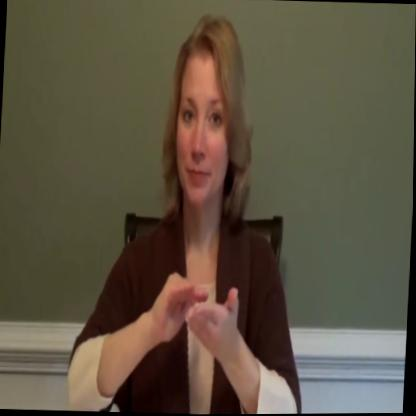ExcuseMe: (66, 2, 323, 416)
